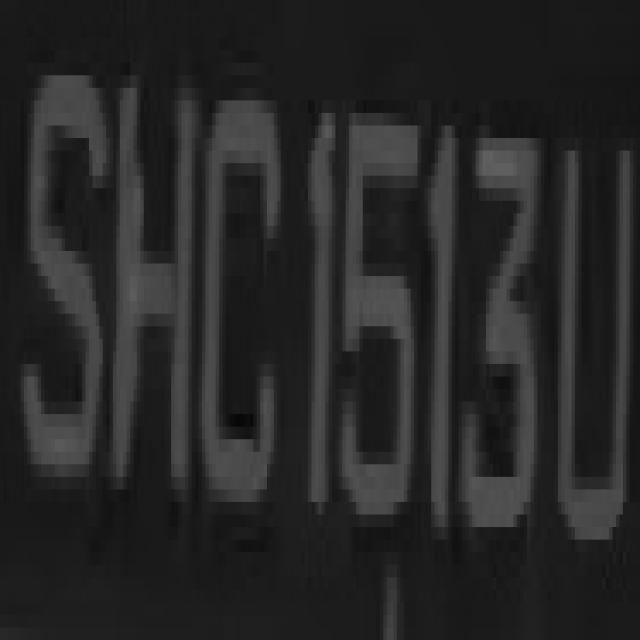1: (418, 113, 466, 590), (301, 38, 339, 602)
3: (469, 63, 547, 577)
5: (339, 75, 417, 628)
C: (198, 50, 291, 540)
H: (103, 25, 205, 527)
S: (21, 38, 102, 540)
U: (547, 75, 640, 577)
